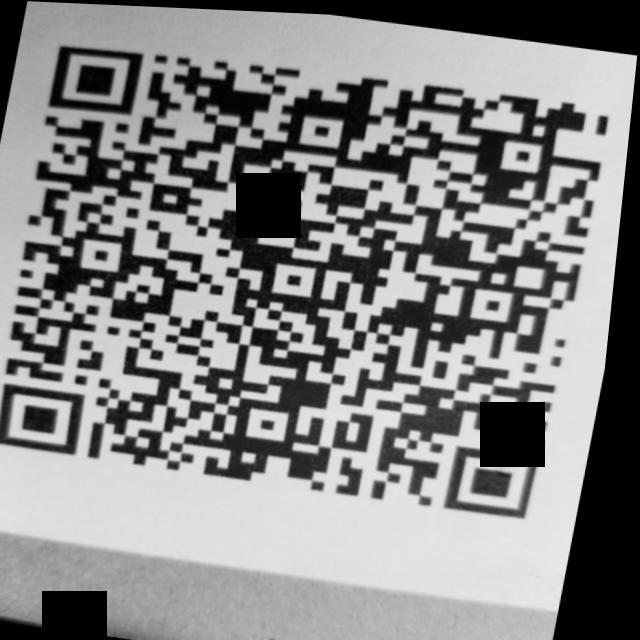QR_CODE: (0, 19, 638, 539)
